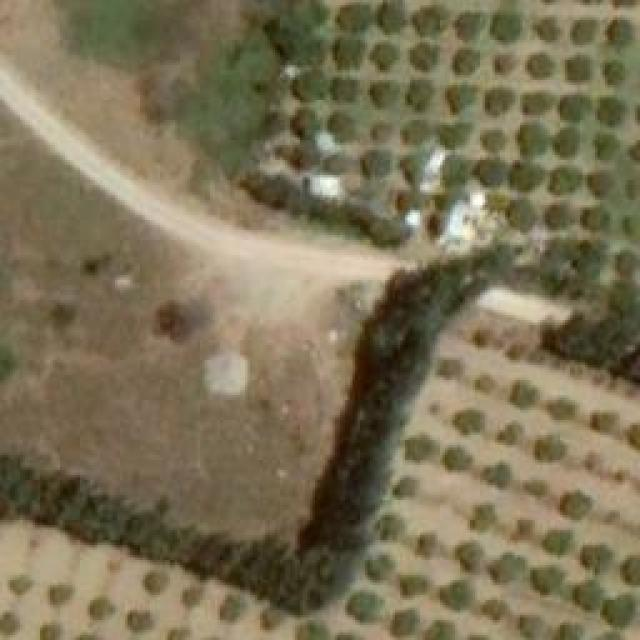Tree: (266, 0, 326, 62), (158, 303, 198, 343), (400, 151, 436, 187), (603, 593, 636, 628), (78, 247, 114, 278), (570, 578, 603, 611), (490, 553, 525, 583), (558, 490, 593, 520), (578, 543, 611, 573), (403, 433, 436, 463), (333, 38, 366, 68), (530, 567, 563, 595), (533, 432, 566, 460), (510, 378, 538, 411), (350, 590, 380, 620), (218, 593, 248, 623), (340, 0, 370, 30), (440, 582, 470, 610), (480, 462, 510, 490), (453, 407, 483, 435), (520, 125, 548, 155), (455, 540, 480, 573), (257, 605, 285, 633), (370, 40, 398, 68), (407, 80, 435, 108), (545, 398, 578, 421), (510, 163, 543, 186), (88, 595, 118, 620), (545, 528, 570, 558), (380, 0, 405, 30), (365, 555, 393, 580), (48, 582, 73, 610), (125, 610, 153, 635), (467, 505, 495, 530), (492, 13, 520, 38), (295, 75, 323, 100), (600, 98, 628, 123), (458, 12, 483, 40), (370, 119, 398, 144), (443, 448, 473, 471), (478, 160, 508, 183), (410, 43, 438, 66), (452, 50, 480, 73), (447, 88, 475, 111), (143, 570, 168, 595), (498, 420, 523, 445), (333, 113, 358, 138), (443, 158, 468, 183), (298, 620, 328, 640), (588, 413, 618, 433), (620, 555, 640, 585), (180, 585, 203, 610), (520, 615, 543, 640), (480, 598, 505, 621), (390, 475, 415, 498), (568, 55, 593, 78), (488, 88, 513, 111), (333, 78, 358, 101), (420, 8, 445, 31), (7, 575, 35, 595), (555, 620, 583, 640), (290, 145, 318, 165), (400, 577, 430, 595), (510, 520, 533, 543), (375, 515, 398, 538), (373, 83, 396, 106), (563, 95, 586, 118), (0, 610, 18, 638), (428, 620, 453, 640), (528, 55, 553, 75), (533, 20, 558, 40), (295, 110, 315, 135), (365, 153, 390, 173), (553, 170, 578, 190), (548, 205, 573, 225), (393, 610, 413, 633), (415, 533, 435, 556), (438, 358, 461, 378), (610, 20, 630, 43), (573, 20, 596, 40), (558, 130, 578, 153), (615, 253, 635, 276), (523, 95, 548, 113), (512, 203, 530, 228), (625, 422, 640, 450), (325, 155, 348, 173), (585, 210, 608, 228), (525, 480, 545, 500), (505, 340, 525, 360), (495, 53, 515, 73), (440, 125, 460, 145), (40, 622, 60, 640), (470, 327, 490, 345), (405, 122, 425, 140), (485, 132, 505, 150), (590, 175, 610, 193), (600, 135, 618, 155), (622, 180, 640, 200), (475, 375, 493, 393), (605, 63, 620, 83)
